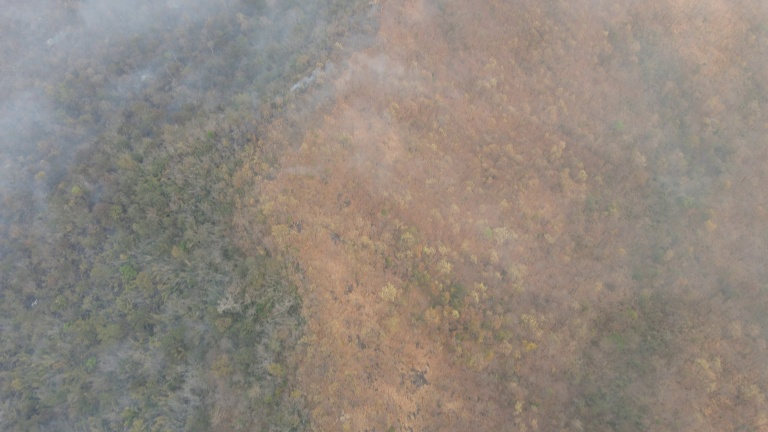smoke: (3, 1, 408, 199)
